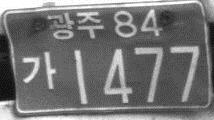1: (70, 48, 94, 107)
4: (102, 46, 133, 106), (140, 7, 163, 36)
7: (166, 43, 202, 101), (132, 45, 166, 103)
8: (113, 9, 136, 38)
가: (21, 50, 57, 93)
광주_O: (47, 10, 105, 40)
